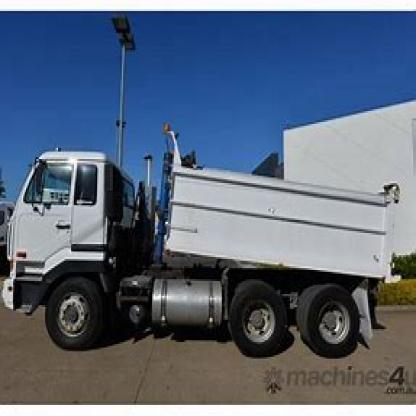dump_truck: (10, 118, 402, 368)
